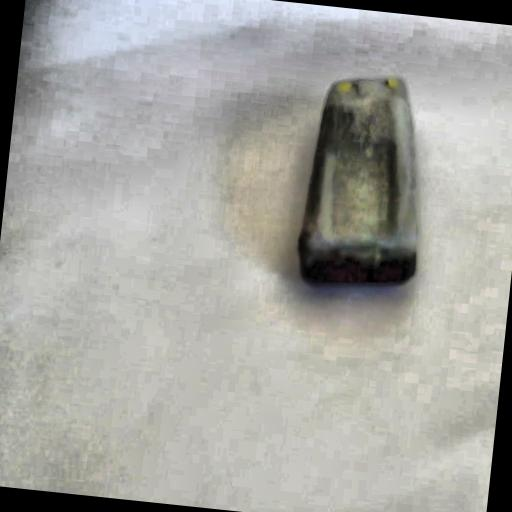normal_car: (282, 58, 444, 308)
